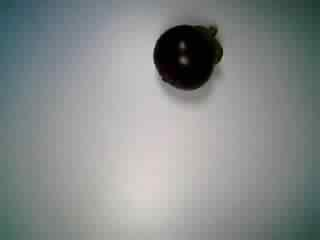mangosteen: (148, 21, 233, 93)
